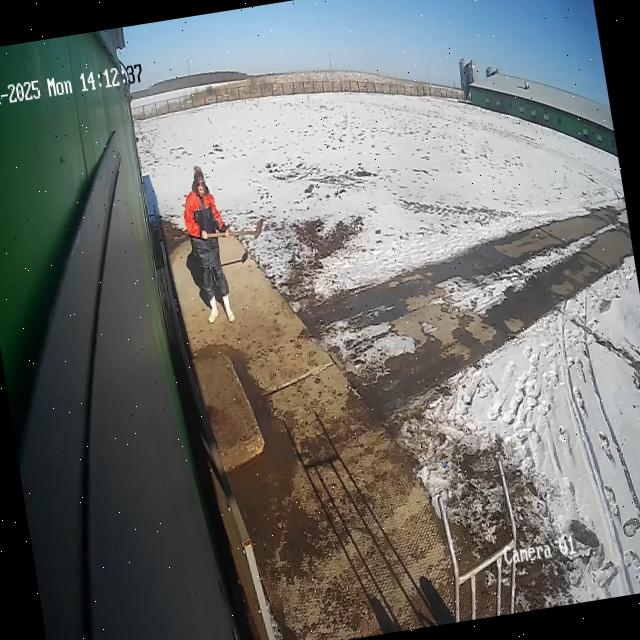Red uniform: (174, 161, 245, 331)
